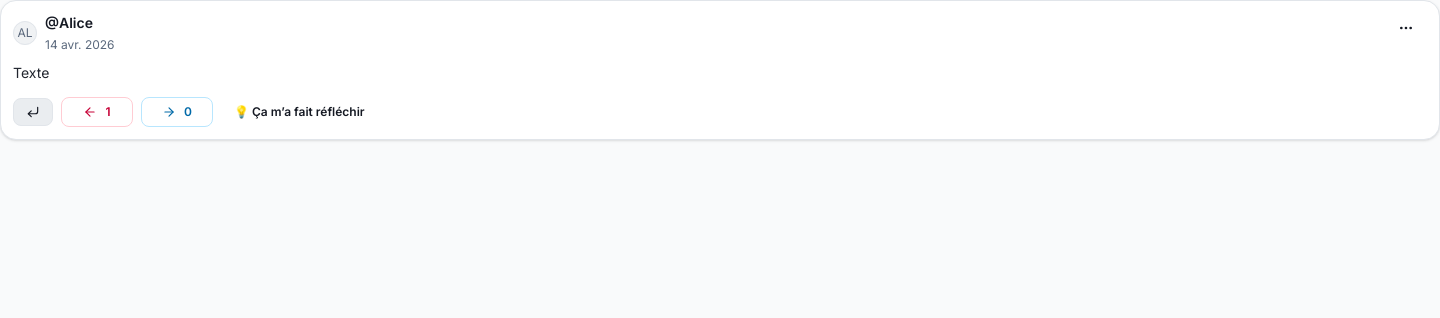
Scenario: comment node behavior › opens reply composer and cancel returns read mode
The width and height of the screenshot is (1440, 318).
Click the button named "Répondre au commentaire" at (33,112), box [13, 98, 53, 126]
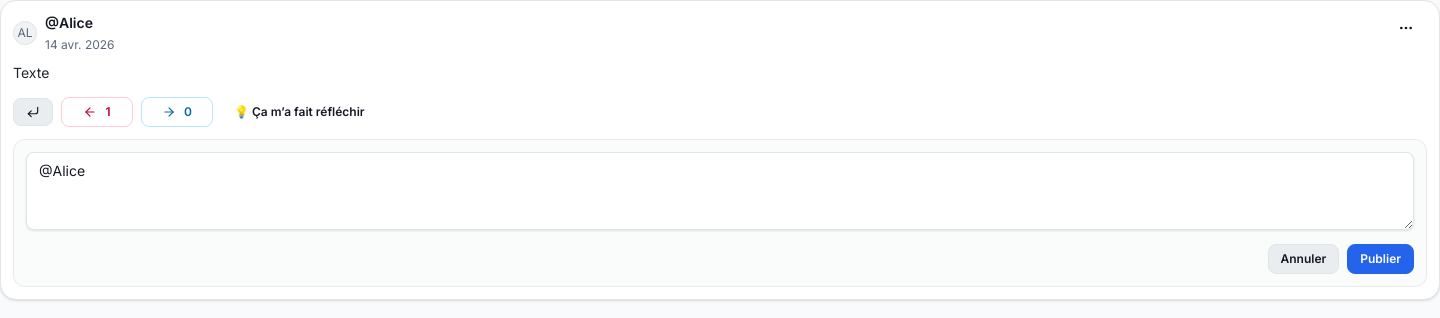
Check: the element with test id "reply-composer" is shown, box [13, 139, 1427, 287]
Click the button "Annuler" at (1303,259), box [1268, 244, 1339, 274]
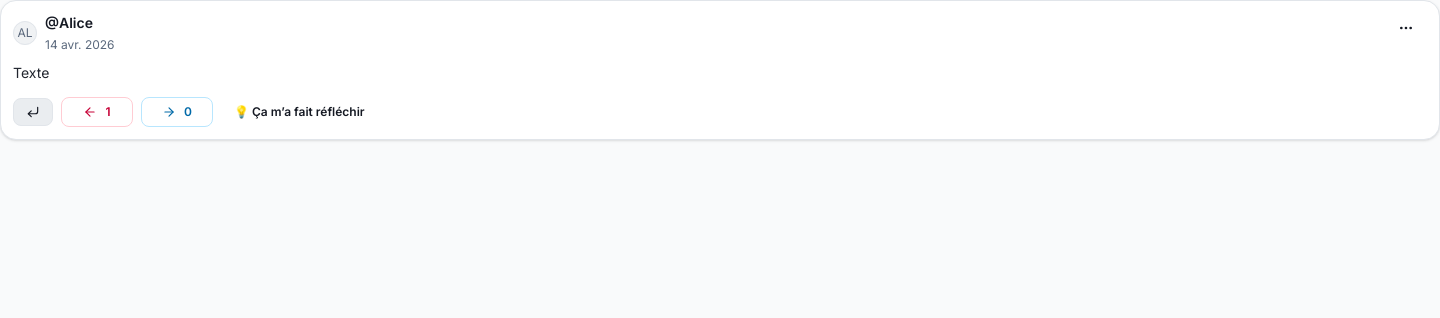
Check: the element with test id "reply-composer" is gone
